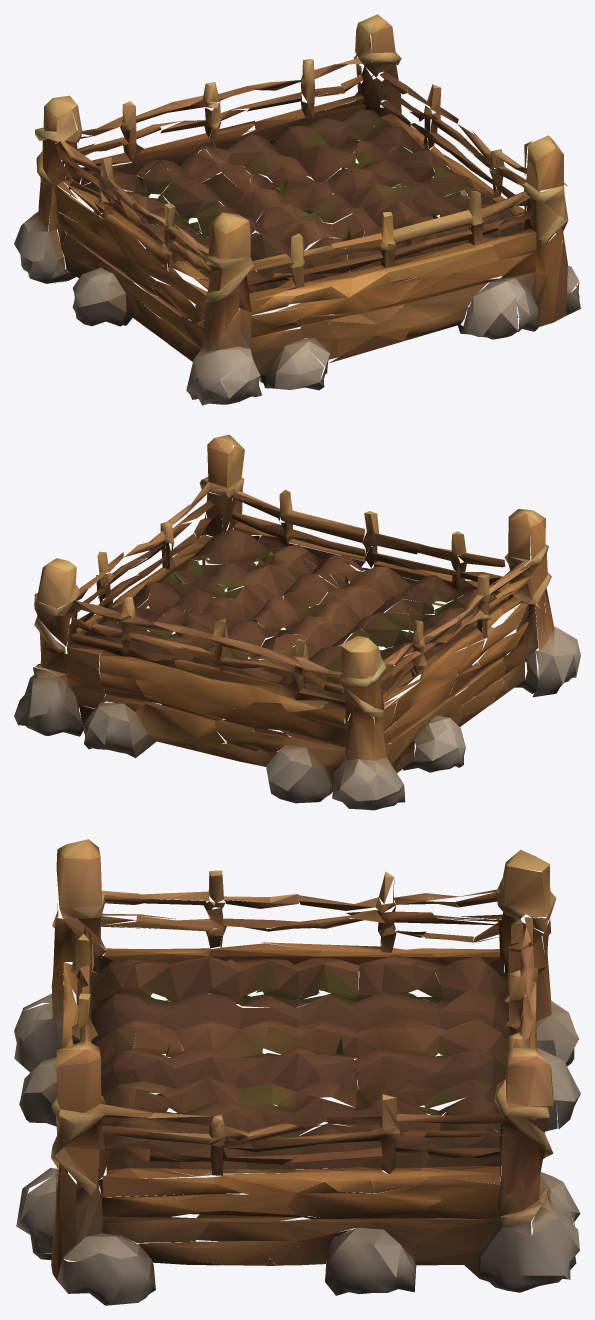
File: building-garden-bed.glb
3 views of the same model, one above another, from view 1: azimuth 30°, elevation 25°; view 2: azimuth 150°, elevation 25°; view 3: azimuth 270°, elevation 25° (orthographic). The views are drawn at different scales.
Parts seen in each view (by area): view 1: 0_garden; view 2: 0_garden; view 3: 0_garden.
Part boxes in pixels (x1,y1,x2,y2): 0_garden: (14, 14, 580, 405); 0_garden: (14, 434, 580, 810); 0_garden: (14, 839, 580, 1305).
Size of the model in its own units: 3.85 by 1.65 by 3.56.
